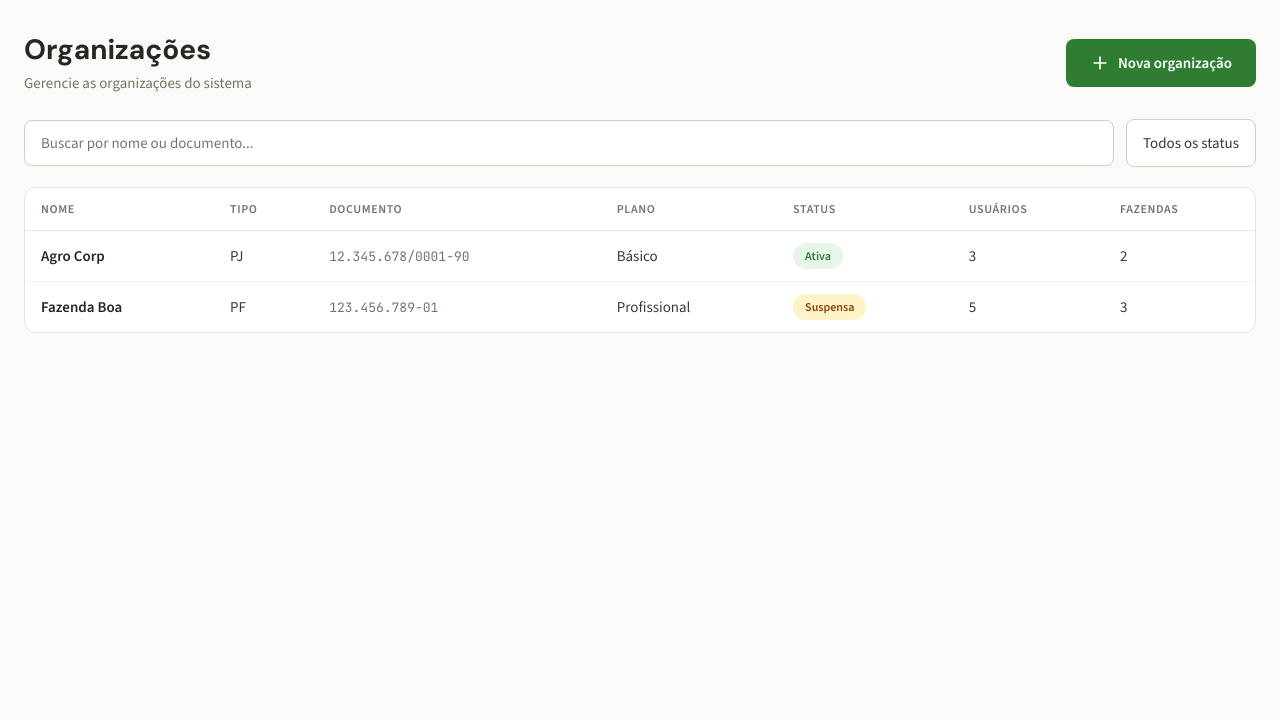
Test: AdminOrganizationsPage › should open detail modal when clicking a row
Click the button with aria-label "Ver detalhes de Agro Corp": (640, 256) [25,230,1255,281]
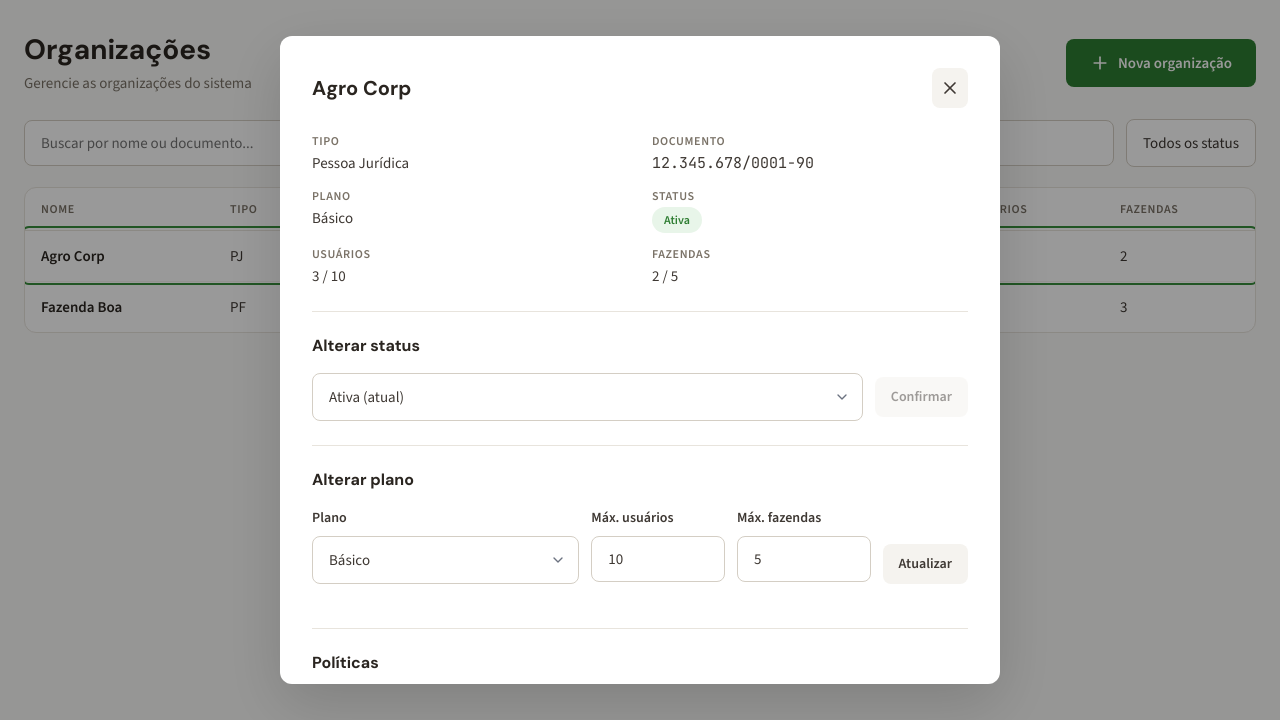
Result: the heading "Alterar status" is shown at [312,335,420,356]
Result: the heading "Alterar plano" is shown at [312,469,414,490]
Result: the heading "Políticas" is shown at [312,652,379,673]
